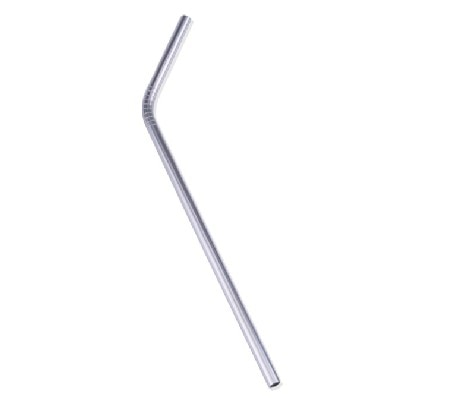Drinking Straw: (138, 13, 284, 391)
